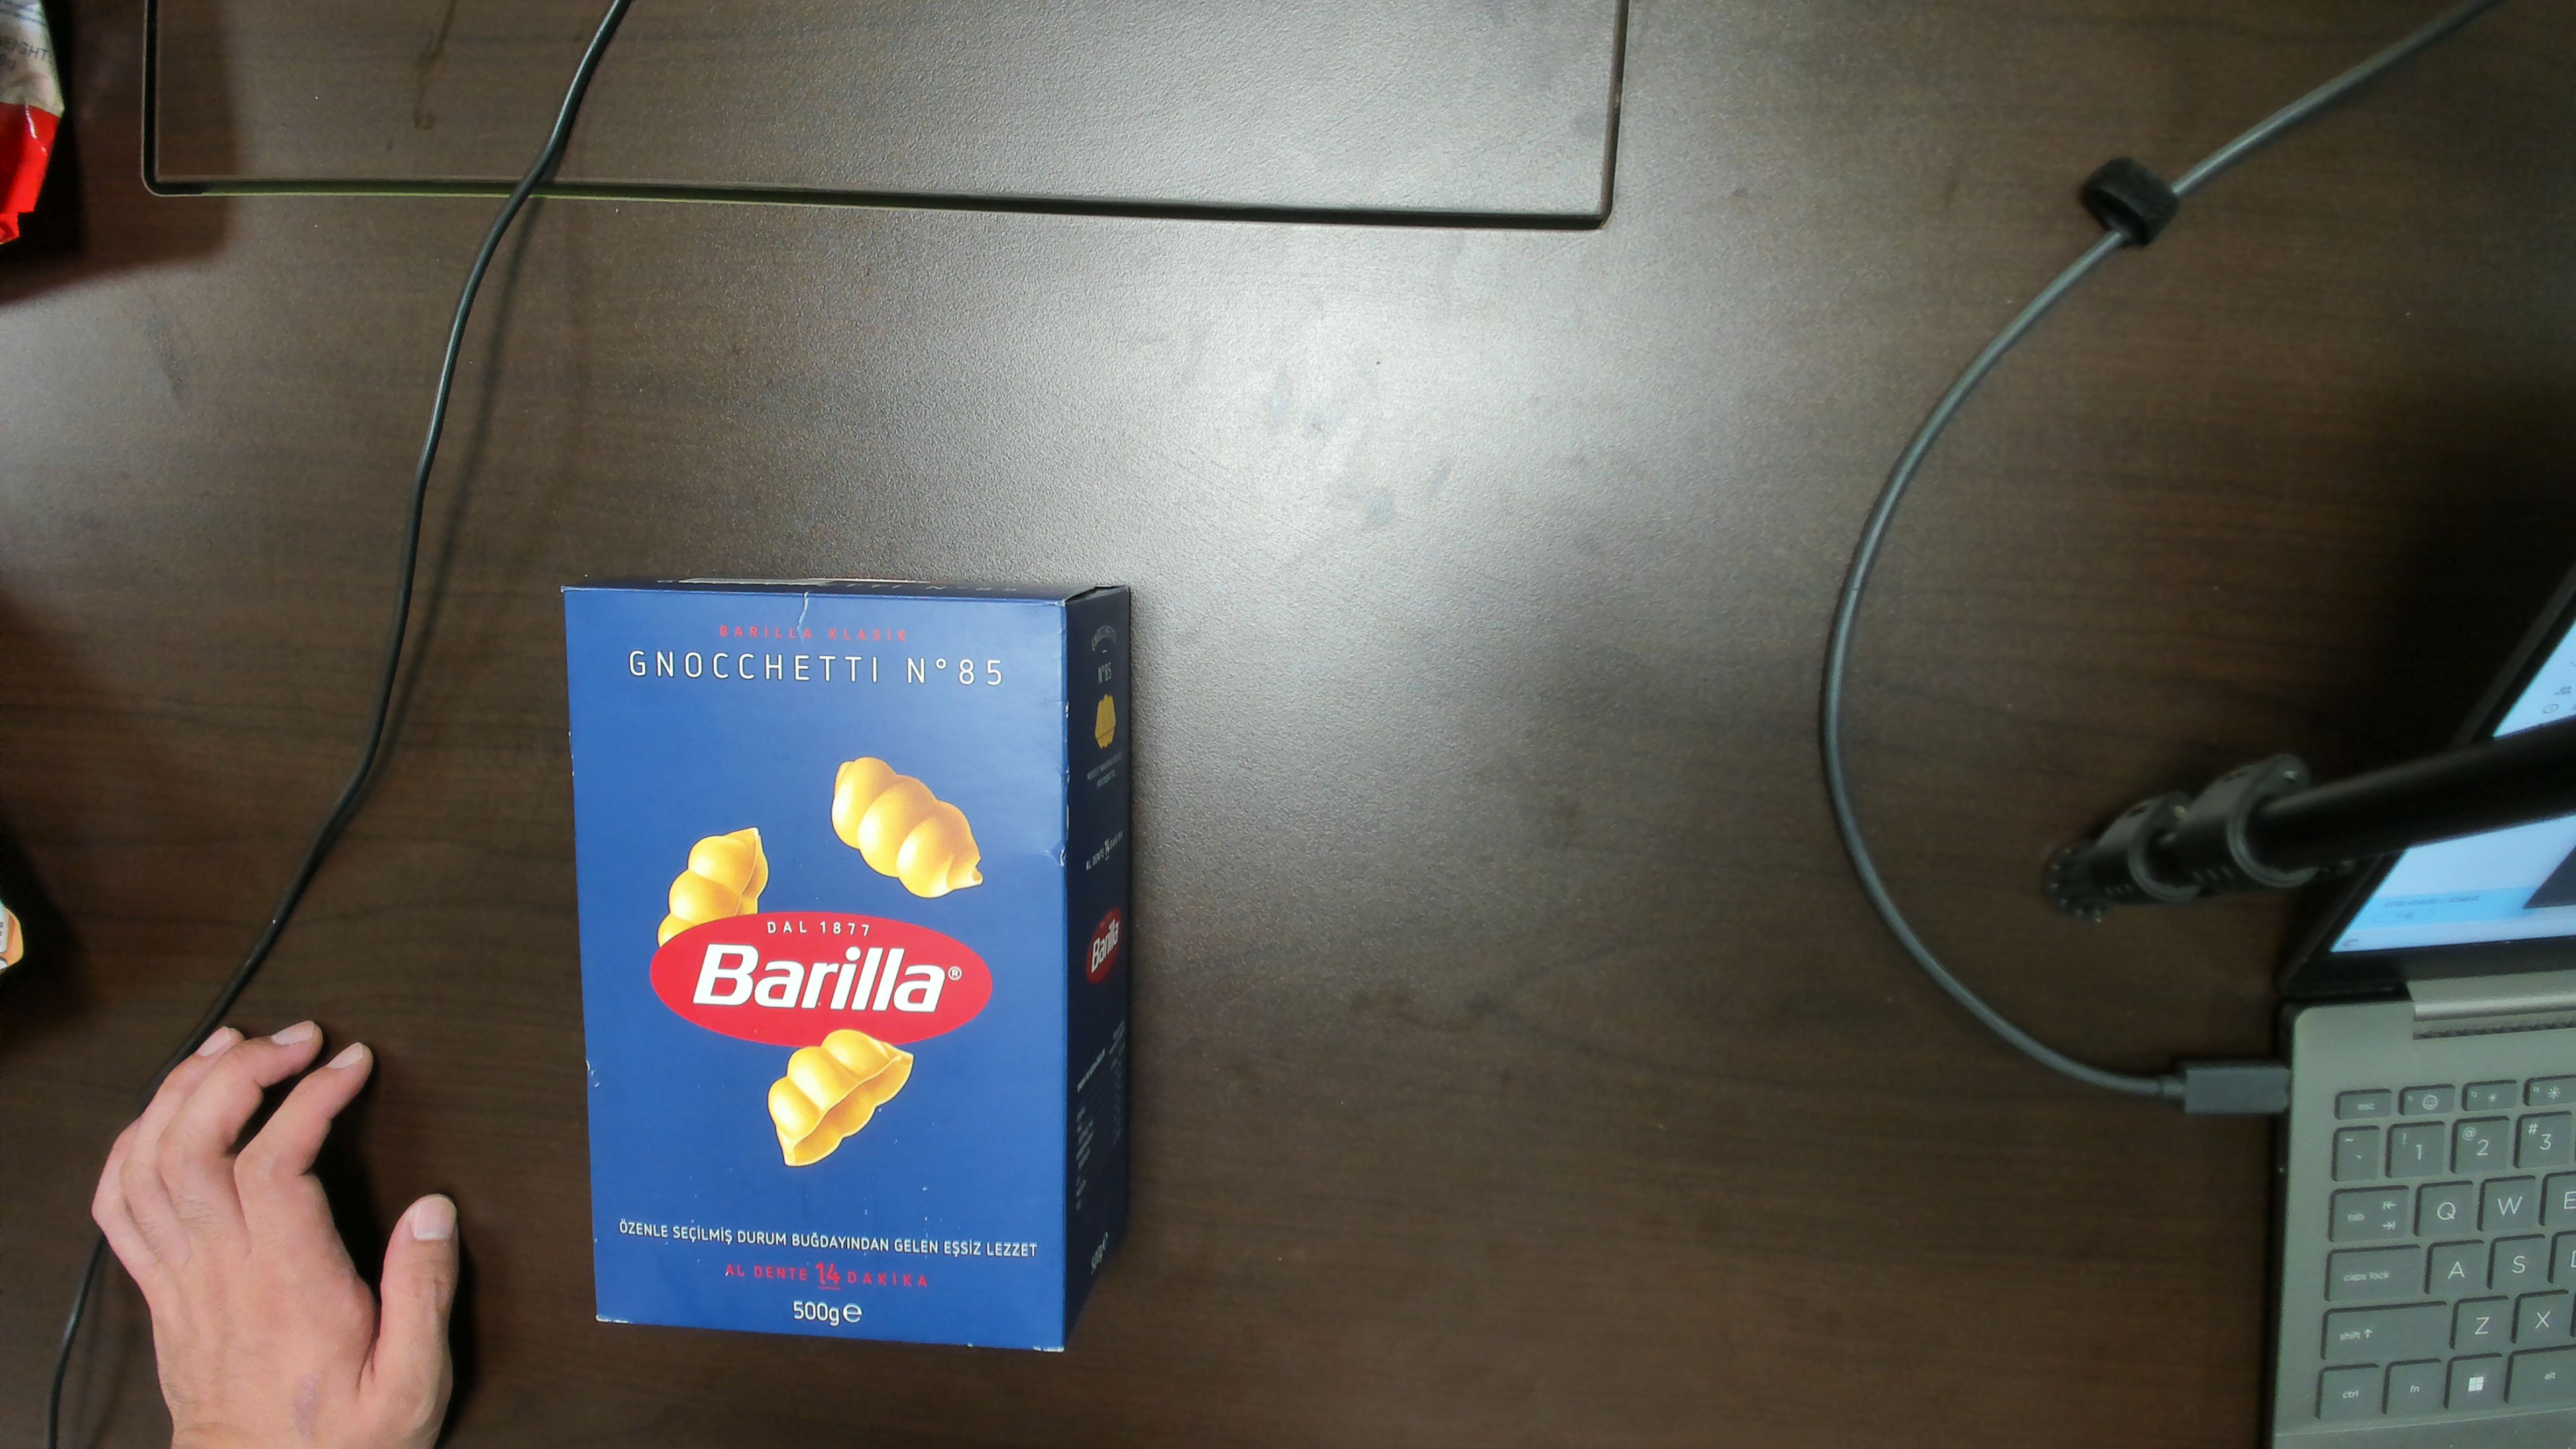Pasta_400-499g_Halal_NonHealthy: (561, 600, 1120, 1338)
